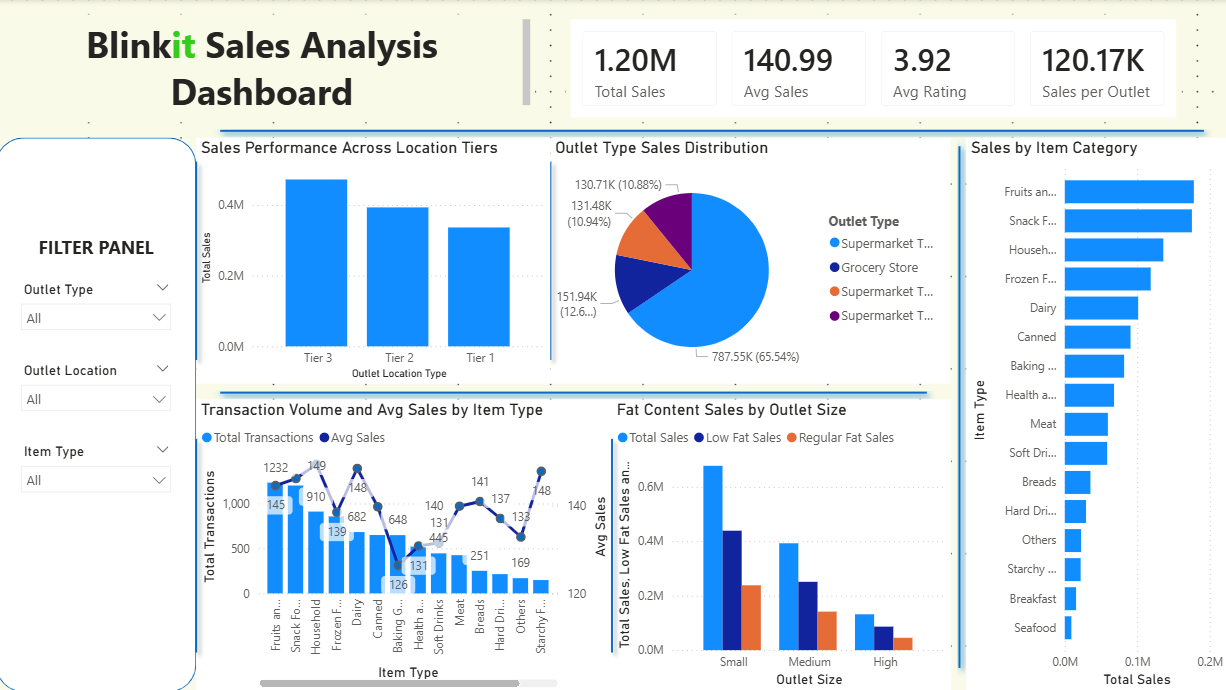

The page's visual inventory and layout, read from the dashboard file:
{"tool":"powerbi","page":{"name":"Sales Analysis","canvas":[1280,720],"ordinal":0},"visuals":[{"type":"shape","box":[0,144,208,576],"z":0,"group":"g2"},{"type":"pieChart","title":"Outlet Type Sales Distribution","fields":{"Category":["dim_outlet.outlet_type"],"Y":["_Measures.Total Sales"]},"box":[576,144,416,256],"z":0},{"type":"slicer","fields":{"Values":["dim_outlet.outlet_type"]},"box":[16,288,176,64],"z":0,"group":"g1"},{"type":"clusteredColumnChart","title":"Fat Content Sales by Outlet Size","fields":{"Category":["dim_outlet.outlet_size"],"Y":["_Measures.Total Sales","_Measures.Low Fat Sales","_Measures.Regular Fat Sales"]},"box":[640,416,352,304],"z":0,"group":"g4"},{"type":"shape","box":[992,144,16,560],"z":1000},{"type":"group","id":"g1","title":"Group 1","box":[16,288,176,224],"z":1000,"group":"g2"},{"type":"slicer","fields":{"Values":["dim_outlet.outlet_location_type"]},"box":[16,372.7,176,60.5],"z":1000,"group":"g1"},{"type":"group","id":"g2","title":"Group 2","box":[0,144,976,576],"z":2000},{"type":"columnChart","title":"Sales Performance Across Location Tiers","fields":{"Category":["dim_outlet.outlet_location_type"],"Y":["_Measures.Total Sales"]},"box":[208,144,368,256],"z":2000,"group":"g4"},{"type":"textbox","box":[16,240,176,48],"z":2000,"group":"g2"},{"type":"slicer","fields":{"Values":["dim_item.item_type"]},"box":[16,457.4,176,60.5],"z":2000,"group":"g1"},{"type":"clusteredBarChart","title":"Sales by Item Category","fields":{"Category":["dim_item.item_type"],"Y":["_Measures.Total Sales"]},"box":[1008,144,272,576],"z":3000},{"type":"shape","box":[224,400,752,16],"z":3000,"group":"g2"},{"type":"shape","box":[224,128,1040,16],"z":4000,"group":"g4"},{"type":"shape","box":[544,160,64,224],"z":4000},{"type":"group","id":"g3","title":"Group 3","box":[0,16,1232,112],"z":5000},{"type":"cardVisual","fields":{"Data":["_Measures.Total Sales","_Measures.Avg Sales","_Measures.Avg Rating","_Measures.Sales per Outlet"]},"box":[592,16,640,112],"z":5000,"group":"g3"},{"type":"textbox","box":[0,16,560,112],"z":6000,"group":"g3"},{"type":"group","id":"g4","title":"Group 4","box":[176,128,1088,592],"z":6000},{"type":"lineClusteredColumnComboChart","title":"Transaction Volume and Avg Sales by Item Type","fields":{"Y":["_Measures.Total Transactions"],"Y2":["_Measures.Avg Sales"],"Category":["dim_item.Item Type"]},"box":[208,416,432,304],"z":9000,"group":"g4"},{"type":"shape","box":[608,448,64,240],"z":10000,"group":"g4"},{"type":"shape","box":[176,448,64,240],"z":12000,"group":"g4"},{"type":"shape","box":[176,160,64,224],"z":13000,"group":"g4"}]}

Visuals, with their boxes in screenshot pixels (x1, y1, x2, y2), scaled from the page's 1280x720 canvas onto the 1226x690 screenshot:
shape: <region>0, 138, 199, 689</region>
"Outlet Type Sales Distribution" pieChart: <region>552, 138, 950, 383</region>
slicer - dim_outlet.outlet_type: <region>15, 276, 184, 337</region>
"Fat Content Sales by Outlet Size" clusteredColumnChart: <region>613, 399, 950, 689</region>
shape: <region>950, 138, 965, 675</region>
"Group 1" group: <region>15, 276, 184, 491</region>
slicer - dim_outlet.outlet_location_type: <region>15, 357, 184, 415</region>
"Group 2" group: <region>0, 138, 935, 689</region>
"Sales Performance Across Location Tiers" columnChart: <region>199, 138, 552, 383</region>
textbox: <region>15, 230, 184, 276</region>
slicer - dim_item.item_type: <region>15, 438, 184, 496</region>
"Sales by Item Category" clusteredBarChart: <region>965, 138, 1225, 689</region>
shape: <region>215, 383, 935, 399</region>
shape: <region>215, 123, 1211, 138</region>
shape: <region>521, 153, 582, 368</region>
"Group 3" group: <region>0, 15, 1180, 123</region>
cardVisual - _Measures.Total Sales x _Measures.Avg Sales: <region>567, 15, 1180, 123</region>
textbox: <region>0, 15, 536, 123</region>
"Group 4" group: <region>169, 123, 1211, 689</region>
"Transaction Volume and Avg Sales by Item Type" lineClusteredColumnComboChart: <region>199, 399, 613, 689</region>
shape: <region>582, 429, 644, 659</region>
shape: <region>169, 429, 230, 659</region>
shape: <region>169, 153, 230, 368</region>
